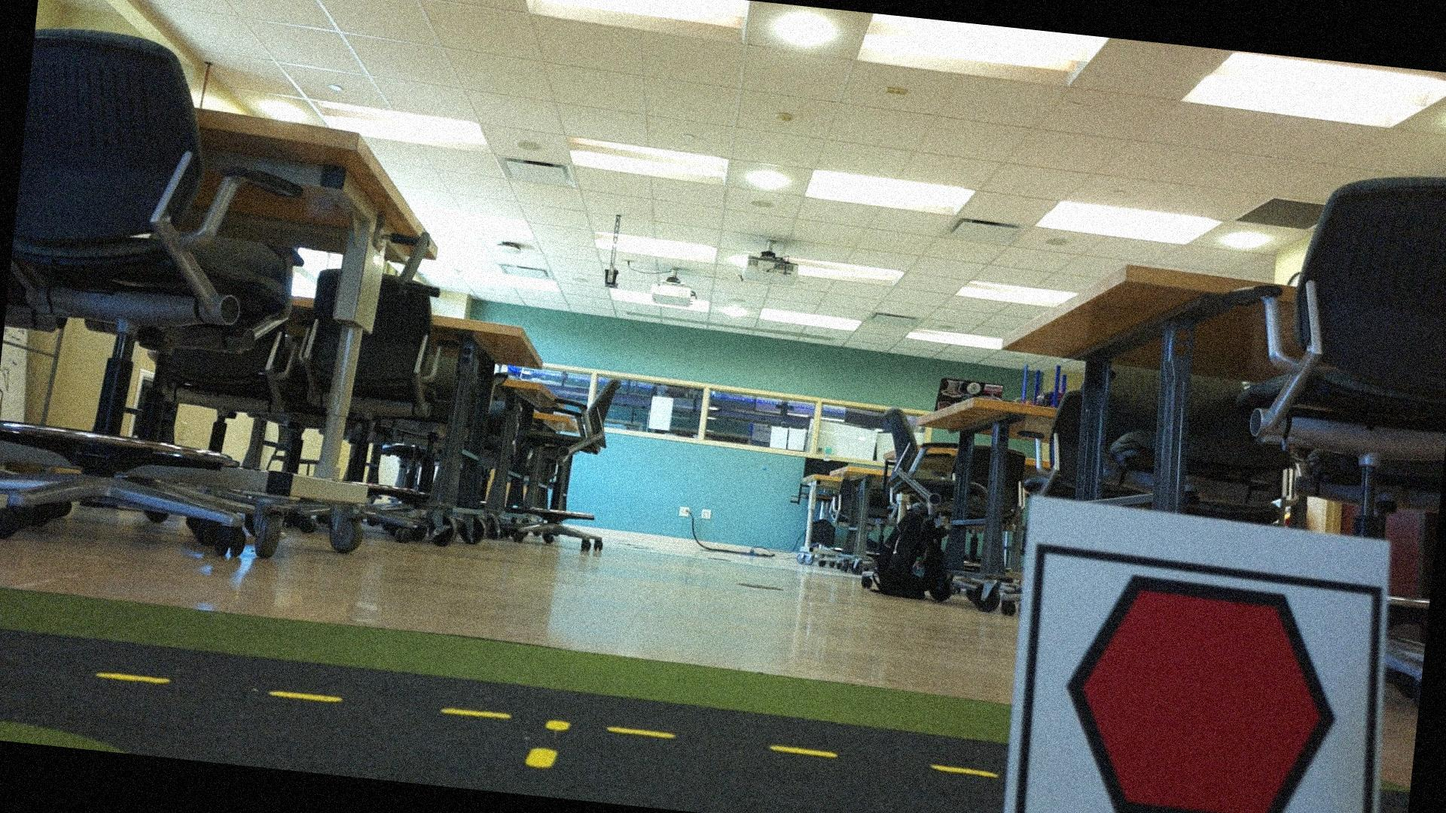stop: (1036, 560, 1367, 812)
yellowline: (0, 659, 994, 779), (522, 713, 571, 774)
